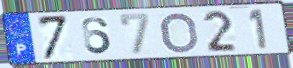1: (247, 7, 270, 51)
2: (201, 9, 241, 55)
6: (80, 17, 114, 57)
7: (117, 11, 156, 58), (38, 14, 72, 63)
O: (159, 11, 200, 55)
